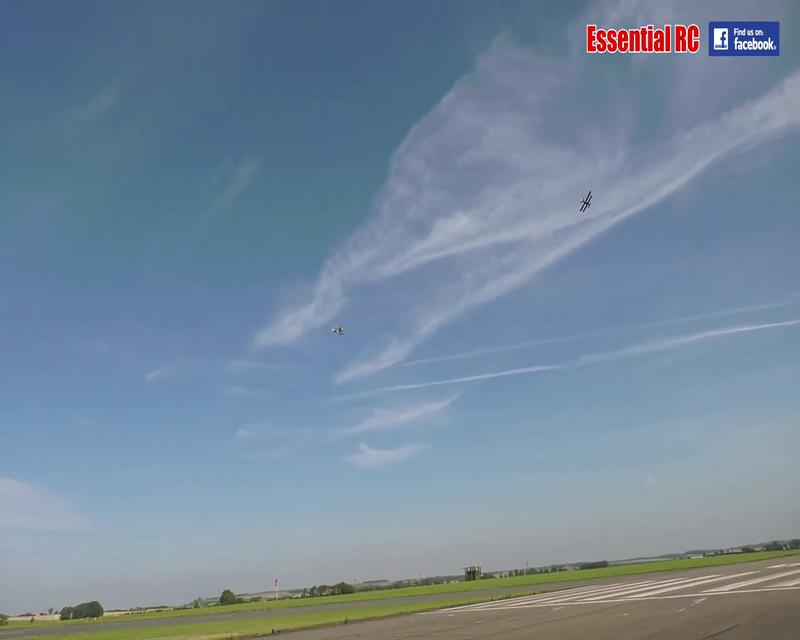UAV: (579, 190, 593, 212), (330, 324, 345, 337)
